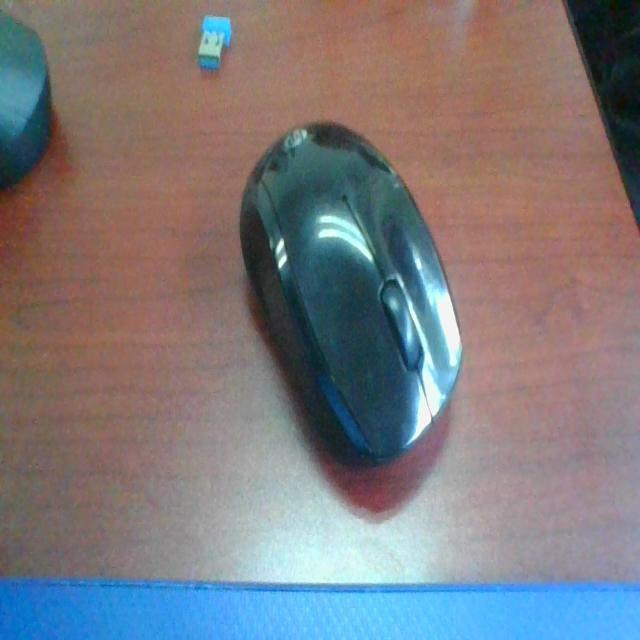Mouse: (240, 106, 477, 484)
